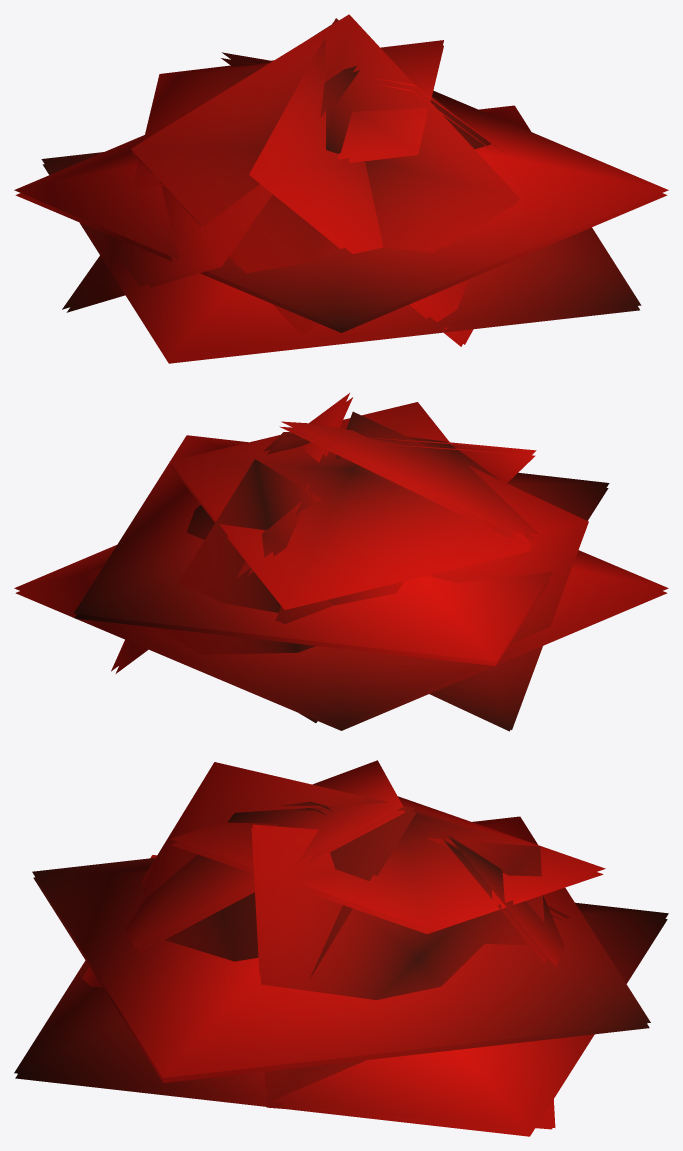
The model's file is TinyW06_high.FBX.
The picture shows the model from 3 angles, top to bottom: view 1: azimuth 30°, elevation 25°; view 2: azimuth 150°, elevation 25°; view 3: azimuth 270°, elevation 25°; orthographic projection. The views are drawn at different scales.
Parts seen in each view (by area): view 1: TinyW06_high; view 2: TinyW06_high; view 3: TinyW06_high.
Boxes of the visible parts, x1=… form: TinyW06_high: x1=14, y1=14, x2=668, y2=363; TinyW06_high: x1=14, y1=393, x2=668, y2=731; TinyW06_high: x1=14, y1=760, x2=668, y2=1136.
Bounding box in the file's own units: 1.04 × 0.476 × 1.04.
